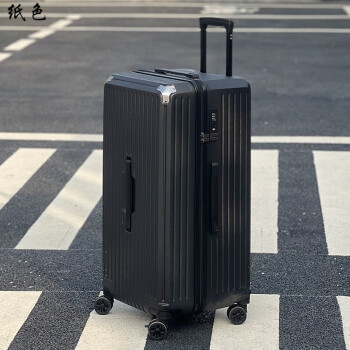box: (102, 67, 251, 315)
handle: (155, 67, 199, 78)
lock: (201, 108, 218, 143)
wheel: (226, 304, 247, 325), (147, 318, 167, 340), (94, 295, 114, 315)
